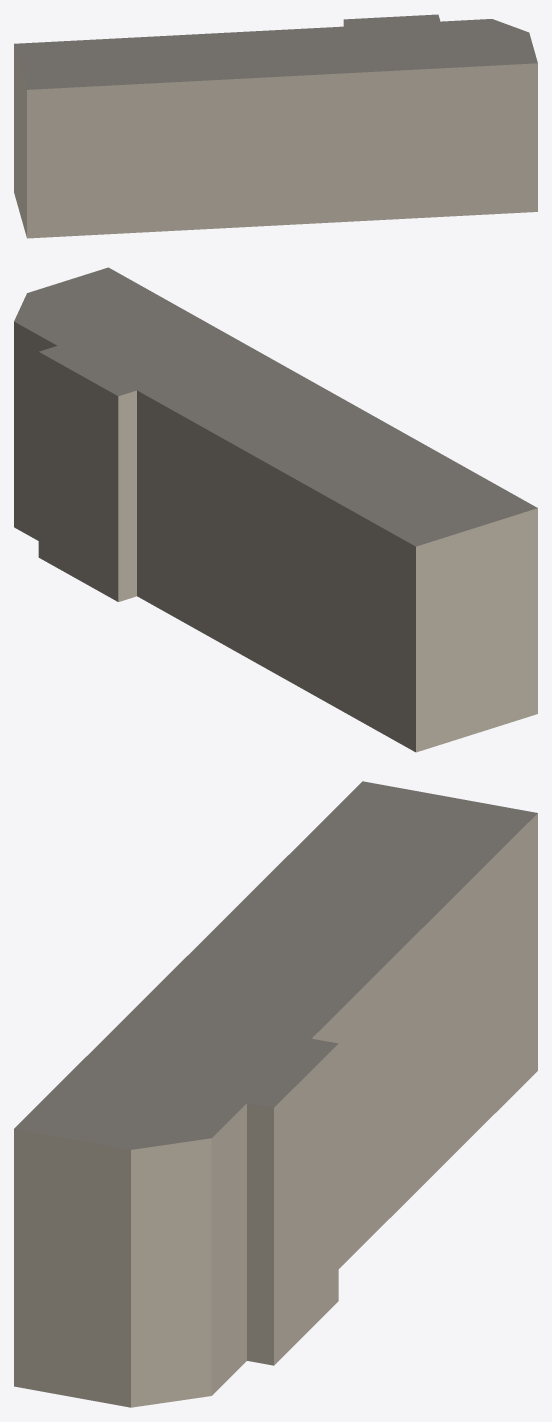
3 views of the same model, one above another, from view 1: azimuth 30°, elevation 25°; view 2: azimuth 150°, elevation 25°; view 3: azimuth 270°, elevation 25° (orthographic). The views are drawn at different scales.
Parts seen in each view (by area): view 1: HP-w859082573; view 2: HP-w859082573; view 3: HP-w859082573.
Part boxes in pixels (x1,y1,x2,y2): HP-w859082573: [14, 14, 537, 238]; HP-w859082573: [14, 267, 537, 752]; HP-w859082573: [14, 781, 537, 1407].
Bounding box in the file's own units: 55.21 × 18 × 33.16.
